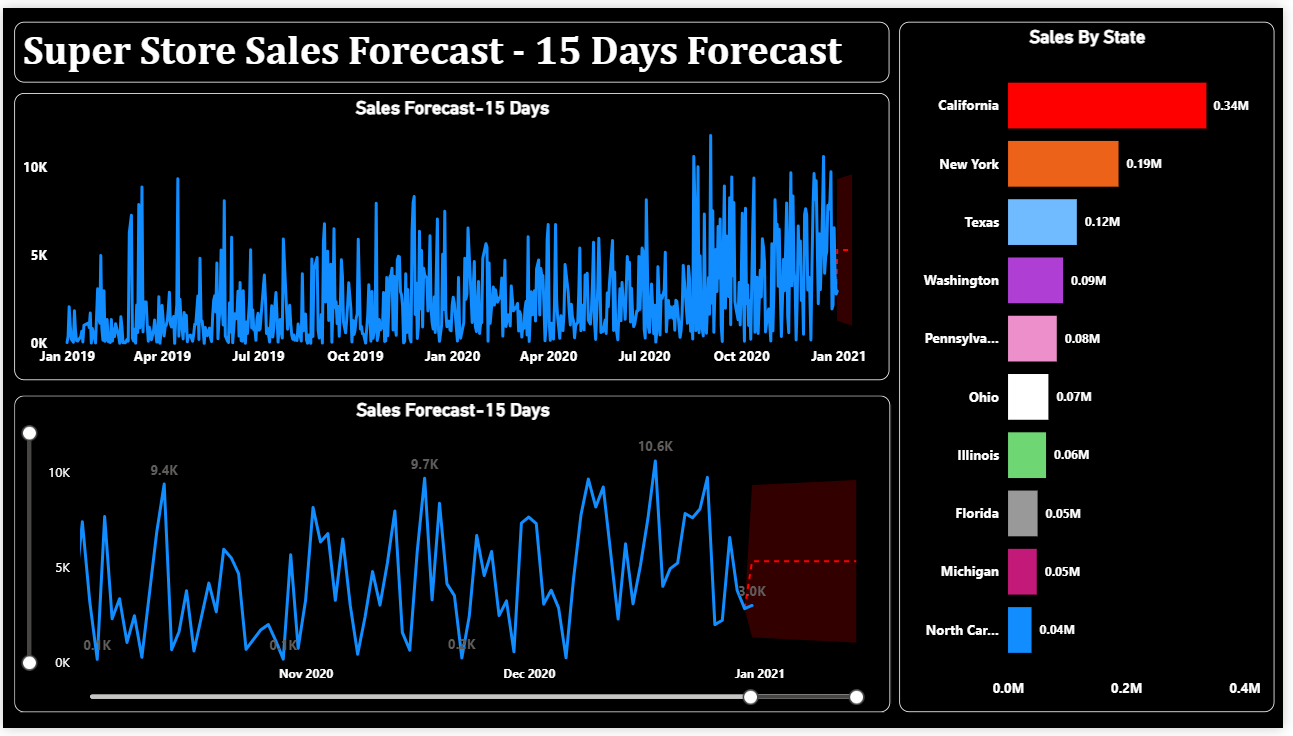

The page's visual inventory and layout, read from the dashboard file:
{"tool":"powerbi","page":{"name":"Forecast Dashboard","canvas":[1280,720],"ordinal":1},"visuals":[{"type":"lineChart","title":"Sales Forecast-15 Days","fields":{"Y":["Sum(SuperStore_Sales_Dataset.Sales)"],"Category":["SuperStore_Sales_Dataset.Order Date"]},"box":[10.7,84.5,875,286.9],"z":0},{"type":"lineChart","title":"Sales Forecast-15 Days","fields":{"Y":["Sum(SuperStore_Sales_Dataset.Sales)"],"Category":["SuperStore_Sales_Dataset.Order Date"]},"box":[10.7,388.1,876.2,316.7],"z":1000},{"type":"barChart","title":"Sales By State","fields":{"Category":["SuperStore_Sales_Dataset.State"],"Y":["Sum(SuperStore_Sales_Dataset.Sales)"]},"box":[896.4,14.3,375,690.5],"z":2000},{"type":"textbox","title":"Super Store Sales Forecast - 15 Days Forecast","box":[10.7,14.3,875,60.7],"z":3000}]}

Visuals, with their boxes in screenshot pixels (x1, y1, x2, y2), scaled from the page's 1280x720 canvas onto the 1293x736 screenshot:
"Sales Forecast-15 Days" lineChart: bbox=(11, 86, 895, 380)
"Sales Forecast-15 Days" lineChart: bbox=(11, 397, 896, 720)
"Sales By State" barChart: bbox=(906, 15, 1284, 720)
"Super Store Sales Forecast - 15 Days Forecast" textbox: bbox=(11, 15, 895, 77)
